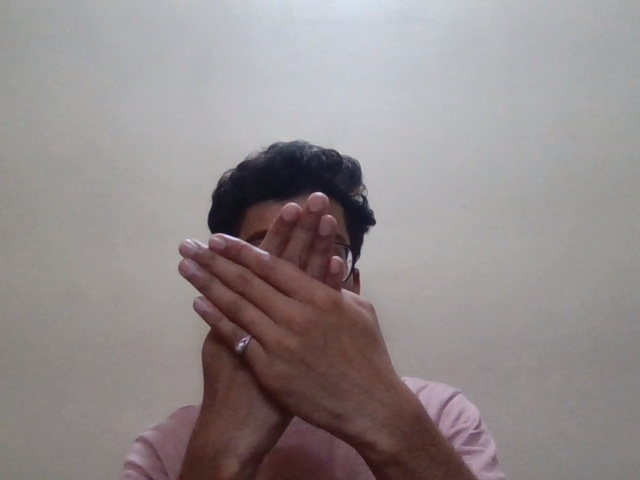what: (171, 196, 390, 389)
